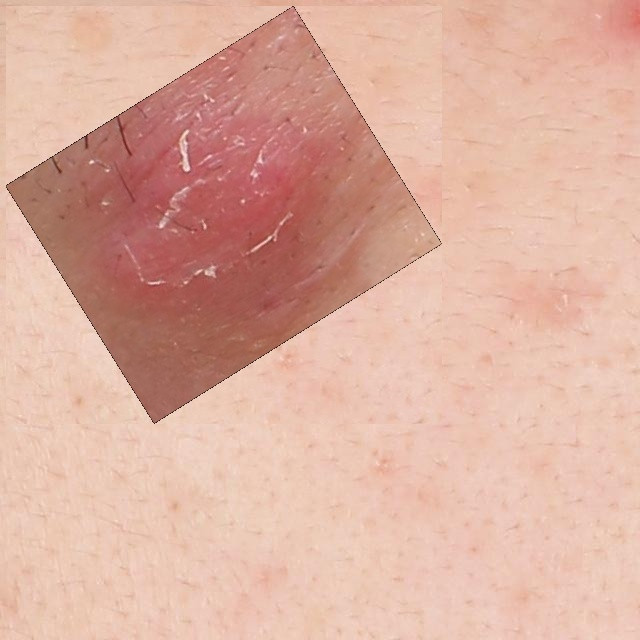nodule: (17, 17, 431, 412)
